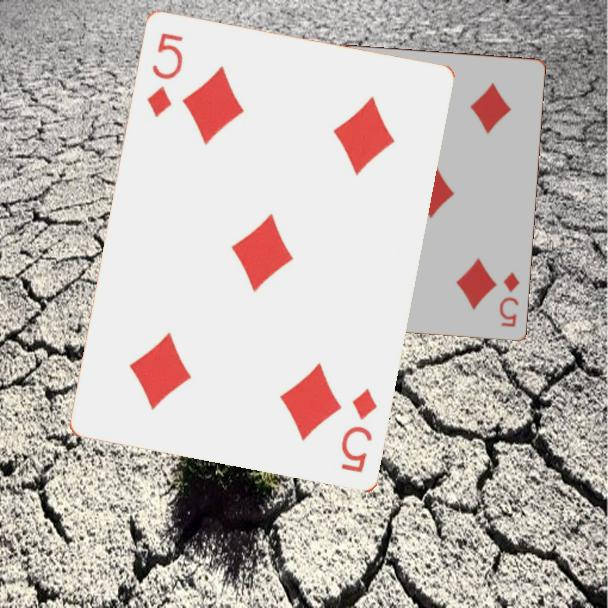d05: (143, 30, 187, 121), (338, 385, 381, 476), (495, 268, 522, 330)
